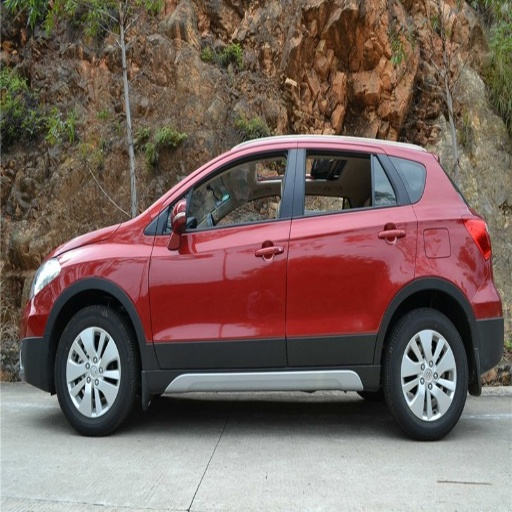back_left_door: (287, 144, 418, 365)
front_left_door: (149, 145, 298, 367)
